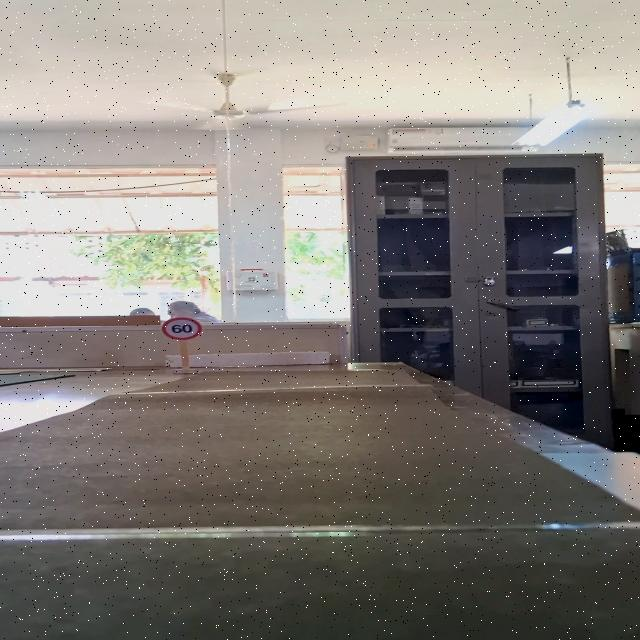Speed60: (159, 316, 203, 341)
